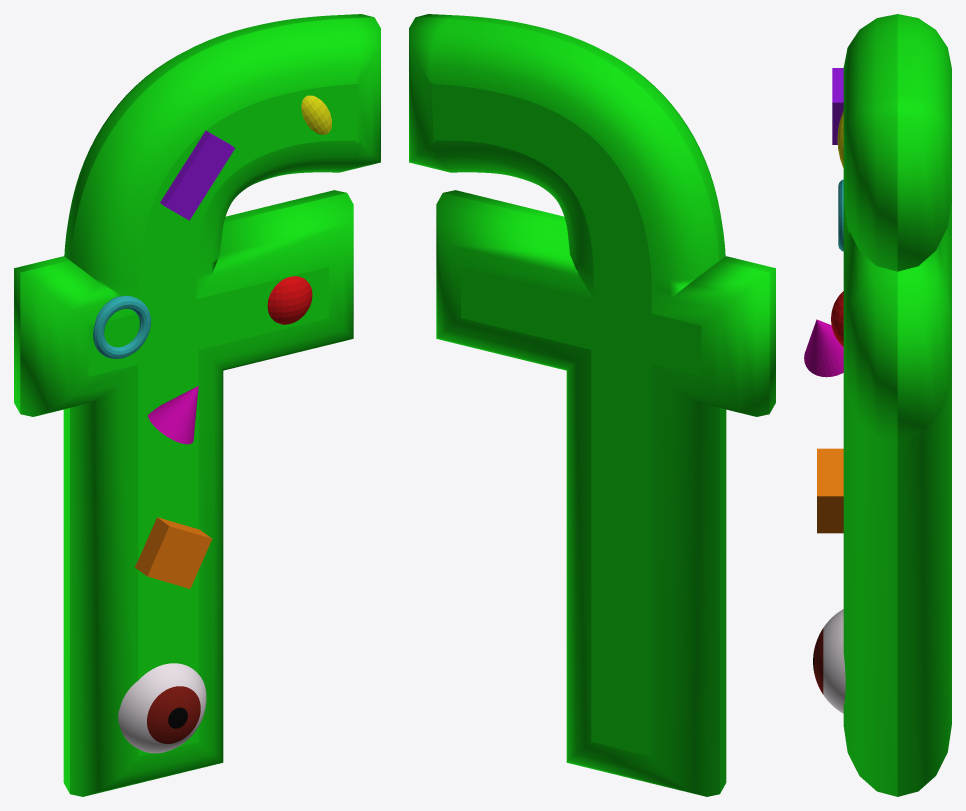
File: f_green.fbx
3 renders of one model, left to right at view 1: azimuth 30°, elevation 25°; view 2: azimuth 150°, elevation 25°; view 3: azimuth 270°, elevation 25°, orthographic. The views are drawn at different scales.
Visible parts, largest first — view 1: Text, Sphere, Cube, Cube.001, Torus, Cone, Sphere.001, Sphere.002; view 2: Text; view 3: Text, Sphere, Cube, Cone, Cube.001, Sphere.001, Torus.
Boxes of the visible parts, bbox=[...] form: Text: bbox=[14, 14, 380, 796]; Sphere: bbox=[118, 663, 206, 753]; Cube: bbox=[135, 517, 211, 588]; Cube.001: bbox=[160, 130, 235, 220]; Torus: bbox=[93, 296, 150, 358]; Cone: bbox=[147, 386, 198, 444]; Sphere.001: bbox=[267, 276, 312, 324]; Sphere.002: bbox=[301, 95, 331, 134]; Text: bbox=[409, 14, 775, 796]; Text: bbox=[843, 14, 951, 796]; Sphere: bbox=[813, 609, 845, 713]; Cube: bbox=[817, 448, 843, 533]; Cone: bbox=[804, 319, 843, 377]; Cube.001: bbox=[832, 68, 843, 144]; Sphere.001: bbox=[831, 291, 843, 346]; Torus: bbox=[838, 179, 843, 251].
Size of the model in its own units: 80.69 by 156 by 26.92.
